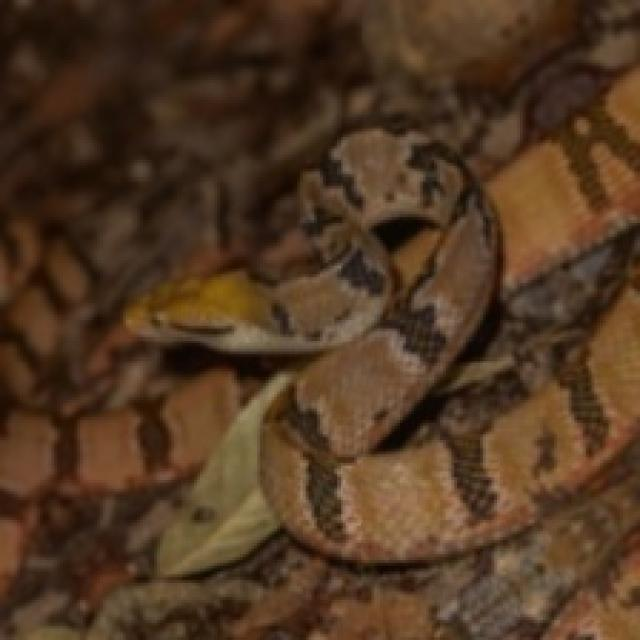dog-toothed cat snake: (126, 66, 637, 574)
